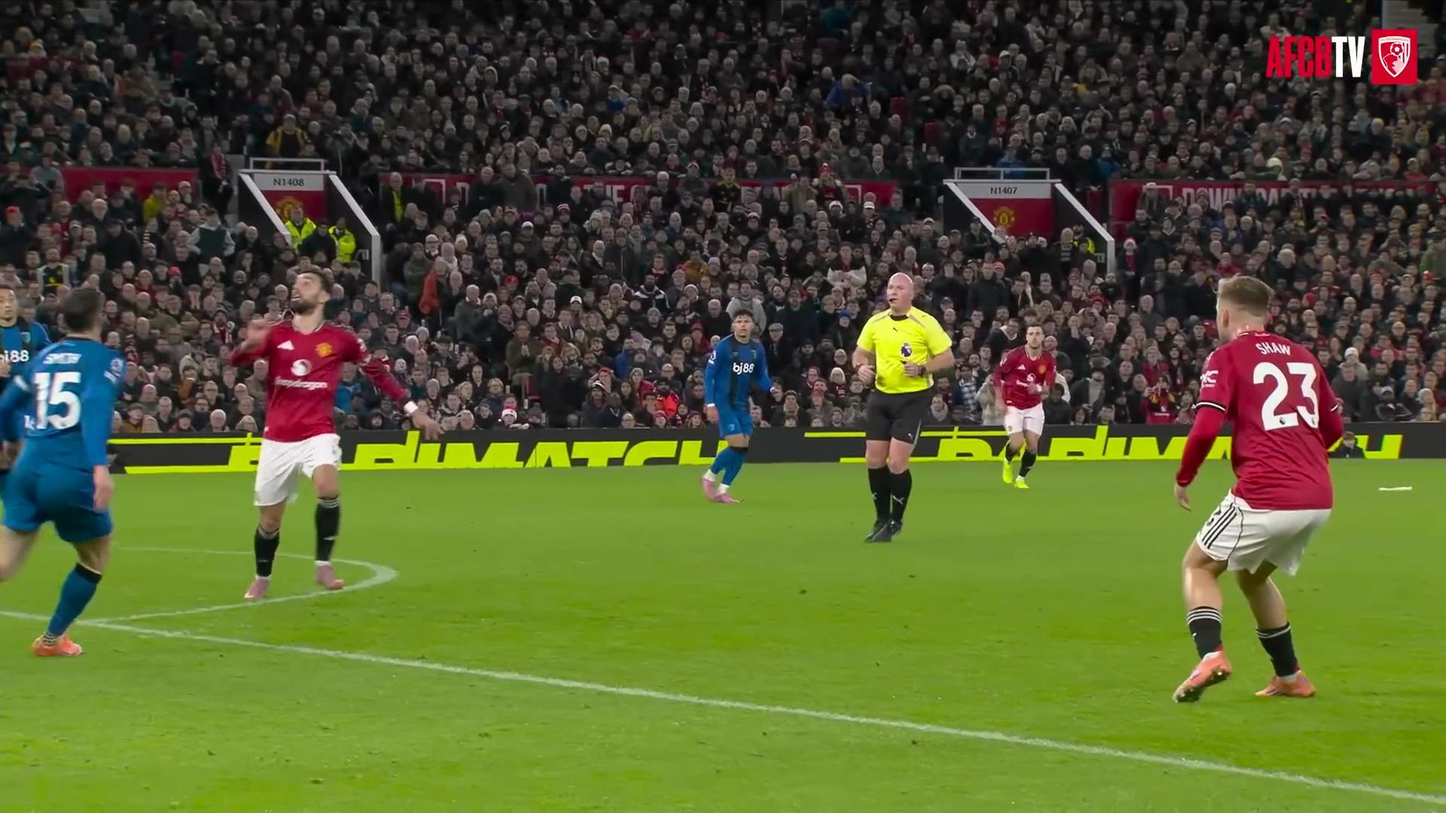player: (1174, 277, 1342, 702), (230, 272, 439, 599), (0, 288, 125, 656), (702, 309, 771, 503), (993, 325, 1056, 488), (0, 283, 50, 391)
referee: (853, 273, 953, 542)
